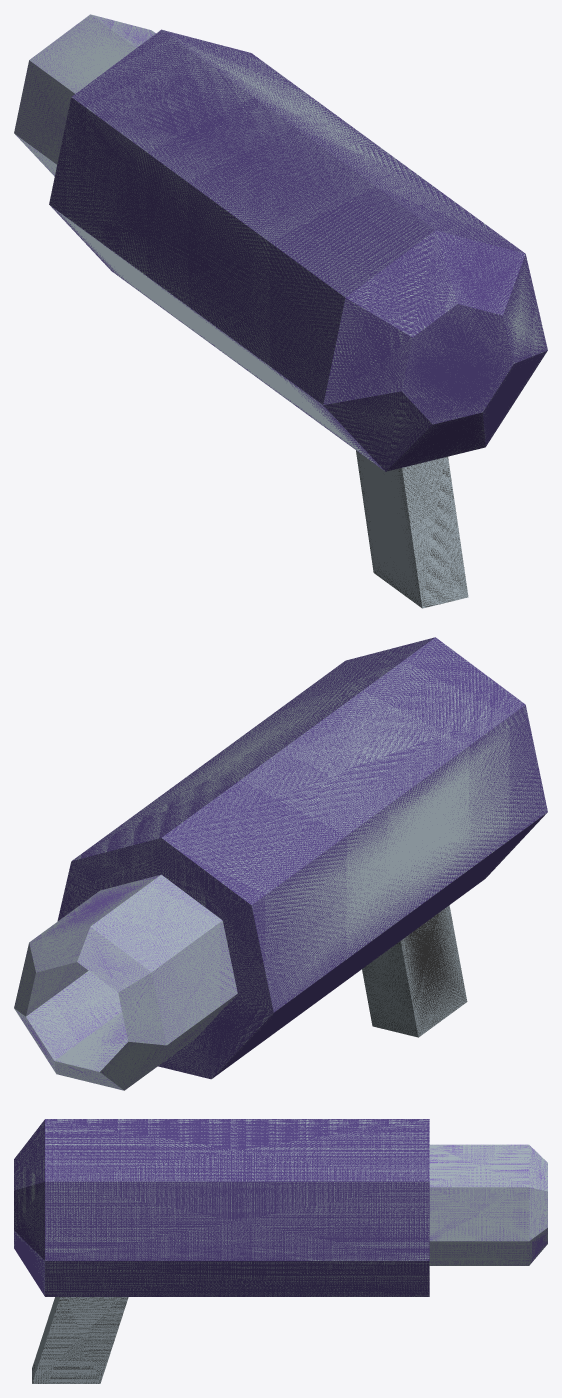
File: HarpoonGun.fbx
3 views of the same model, one above another, from view 1: azimuth 30°, elevation 25°; view 2: azimuth 150°, elevation 25°; view 3: azimuth 270°, elevation 25° (orthographic). The views are drawn at different scales.
Parts seen in each view (by area): view 1: Model; view 2: Model; view 3: Model.
Part boxes in pixels (x1,y1,x2,y2): Model: [14, 14, 547, 608]; Model: [14, 637, 547, 1090]; Model: [14, 1119, 547, 1383].
Size of the model in its own units: 0.2925 by 0.4551 by 0.858.
